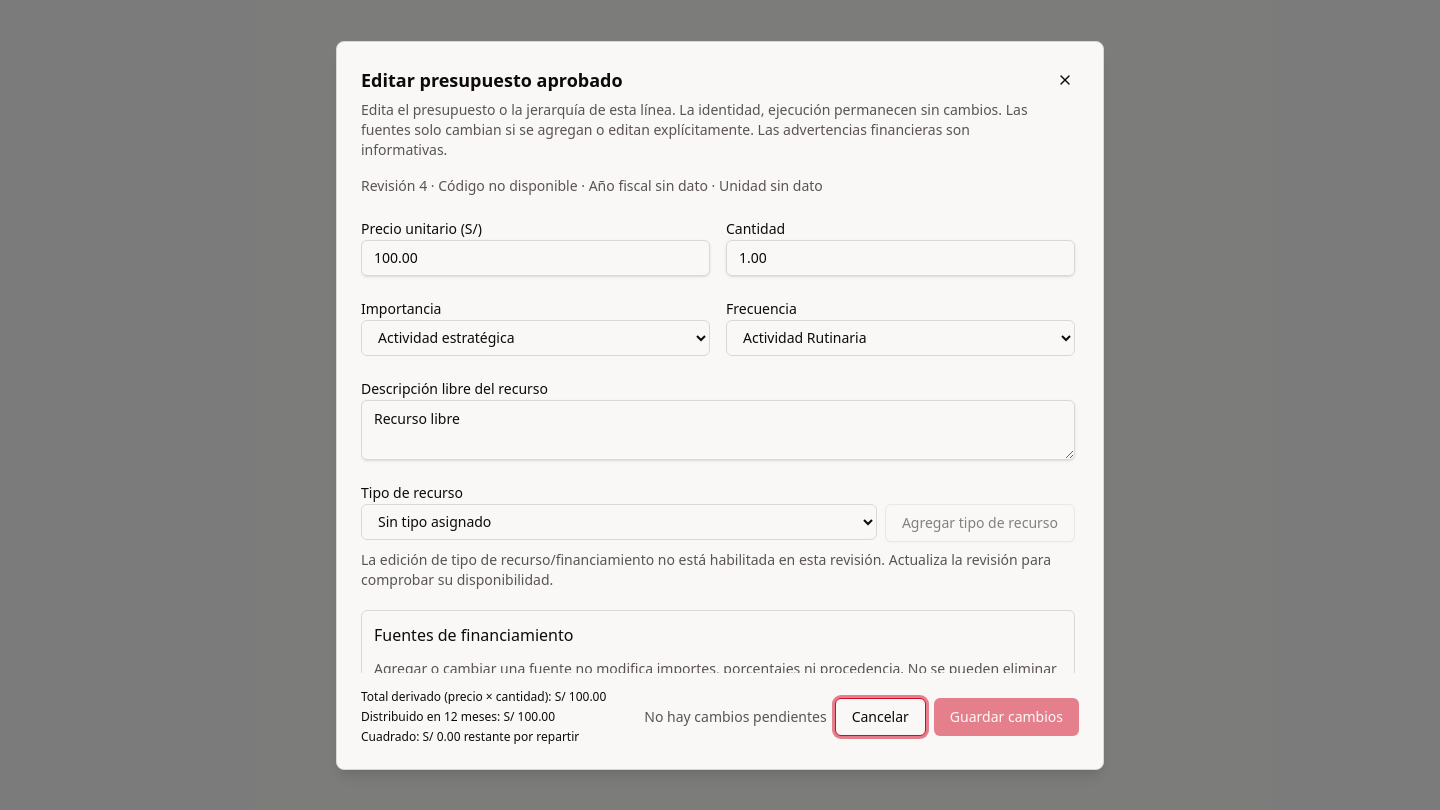
Test: approved amendment dialog › updates derived total and remaining when price or quantity changes without reallocating months
The image size is (1440, 810).
Expected: the text "Revisión 4" is shown, [361,176,823,194]
Replace the text in the field labelled "Precio unitario (S/)" with "120.25" at x=536, y=258, box [361,240,710,276]
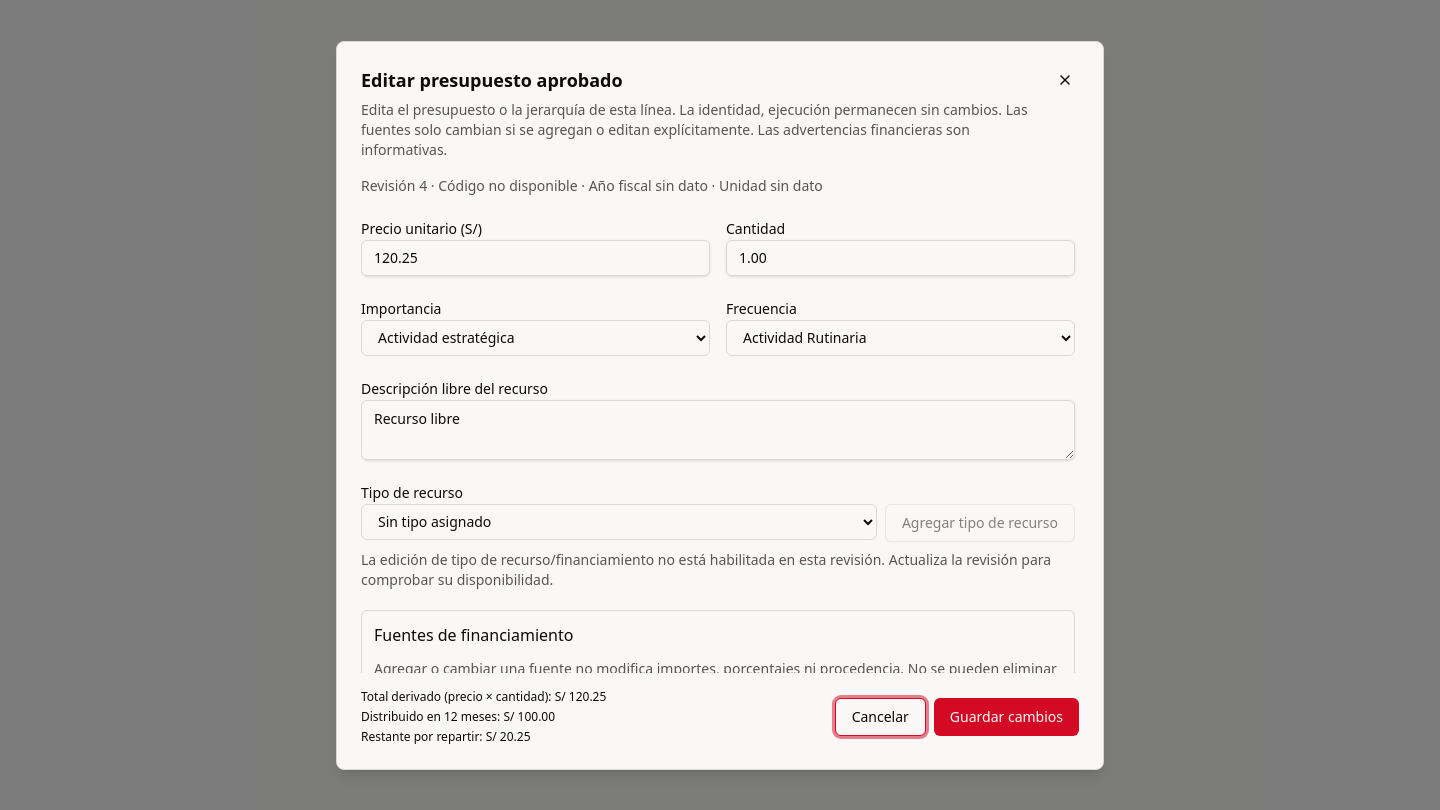
Expected: the text "Distribuido en 12 meses: S/ 100.00" is shown, [361,708,555,724]
Expected: the text "Total derivado (precio × cantidad): S/ 120.25" is shown, [361,688,606,704]
Expected: the text "Restante por repartir: S/ 20.25" is shown, [361,728,530,744]
Replace the text in the field labelled "Cantidad" with "2.00" at x=900, y=258, box [726,240,1075,276]
(page scrolled)
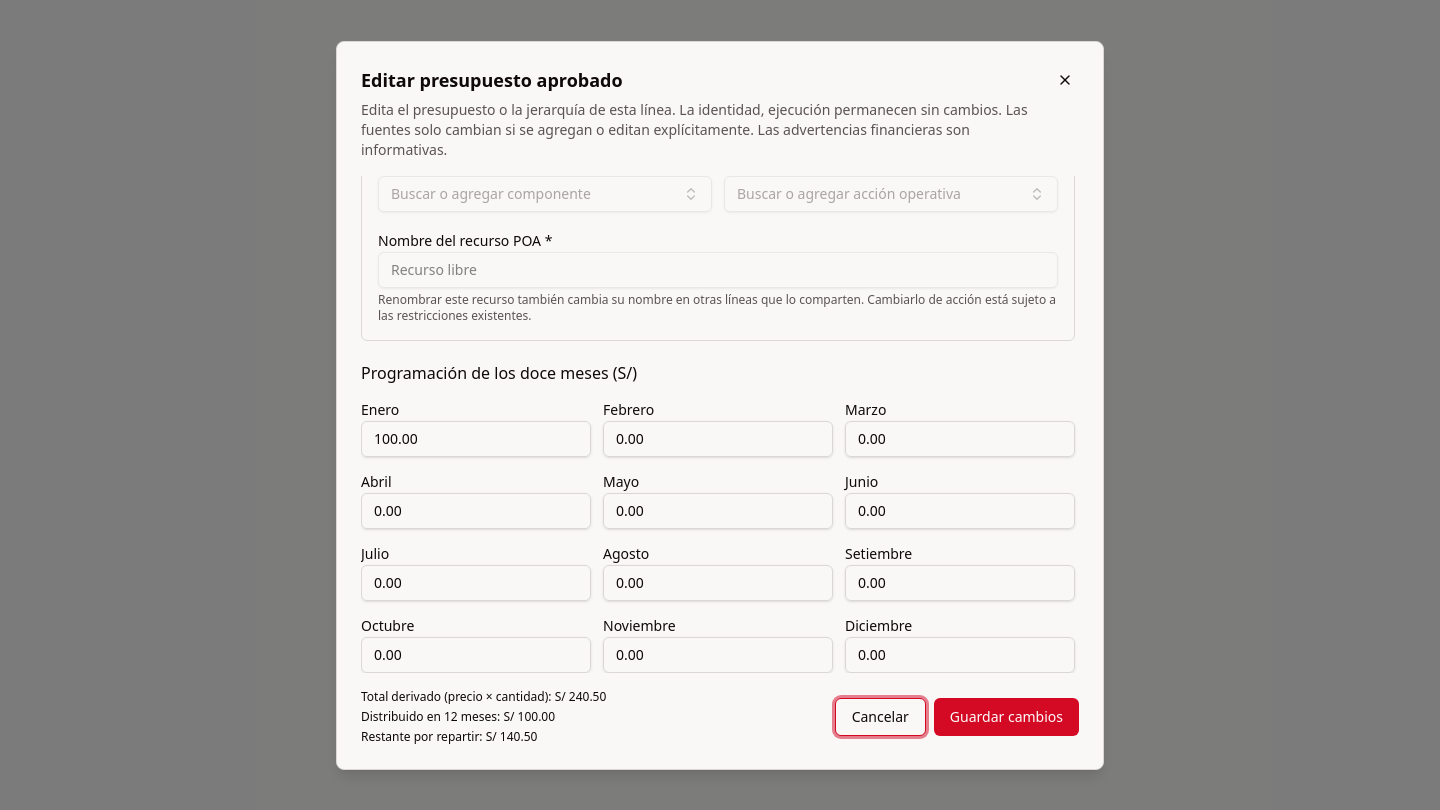
Expected: the text "Restante por repartir: S/ 140.50" is shown, [361,728,537,744]
Expected: the field labelled "Enero" holds "100.00", [361,420,591,456]
